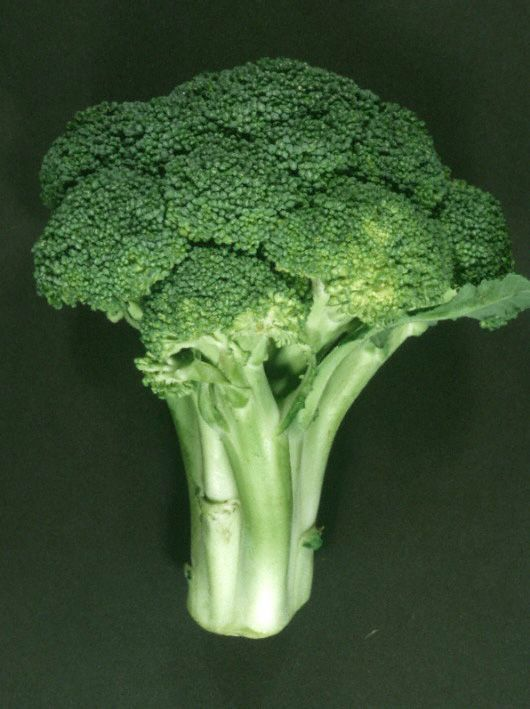broccoli: (33, 62, 528, 641)
